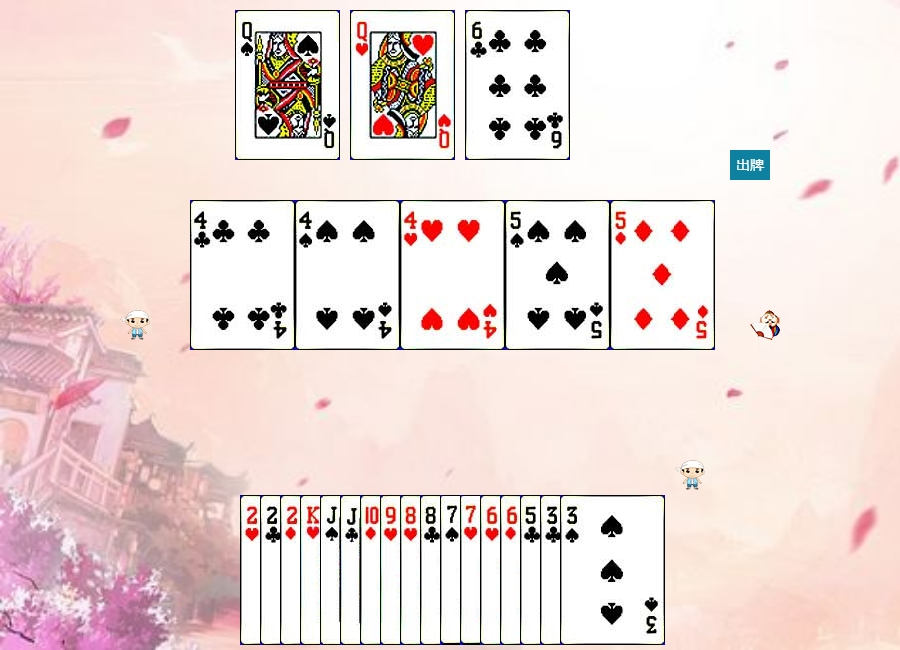10~1: (360, 495, 465, 645)
11~2: (340, 495, 445, 645)
11~4: (320, 495, 425, 645)
12~3: (350, 10, 455, 160)
12~4: (235, 10, 340, 160)
13~3: (300, 495, 405, 645)
15~1: (280, 495, 385, 645)
15~2: (260, 495, 365, 645)
15~3: (240, 495, 345, 645)
3~2: (540, 495, 645, 645)
3~4: (560, 495, 665, 645)
4~2: (190, 200, 295, 350)
4~3: (400, 200, 505, 350)
4~4: (295, 200, 400, 350)
5~1: (610, 200, 715, 350)
5~2: (520, 495, 625, 645)
5~4: (505, 200, 610, 350)
6~1: (500, 495, 605, 645)
6~2: (465, 10, 570, 160)
6~3: (480, 495, 585, 645)
7~3: (460, 495, 565, 645)
7~4: (440, 495, 545, 645)
8~2: (420, 495, 525, 645)
8~3: (400, 495, 505, 645)
9~3: (380, 495, 485, 645)
